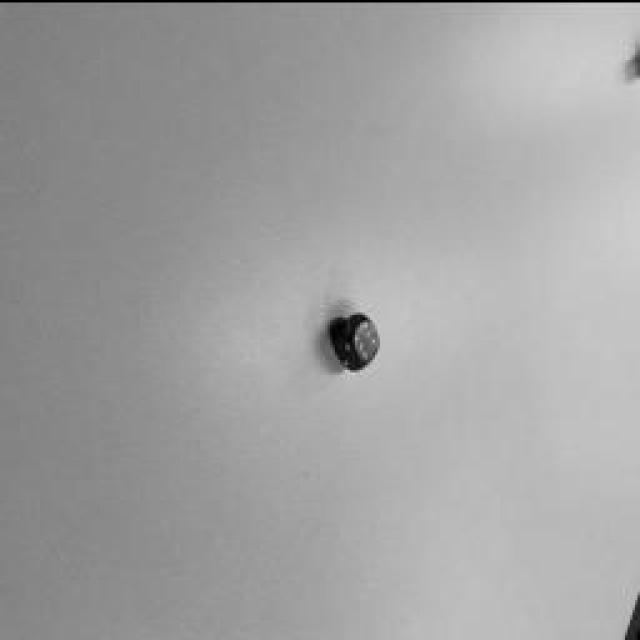dice_6: (354, 318, 378, 360)
